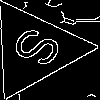S: (9, 24, 74, 76)
